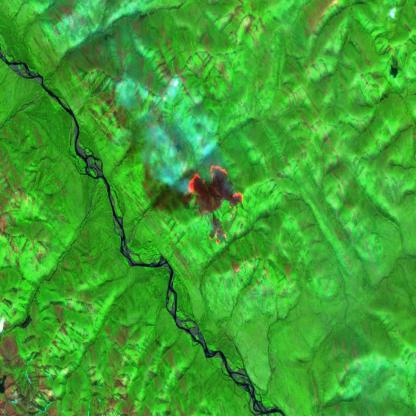fire: (182, 162, 250, 252)
